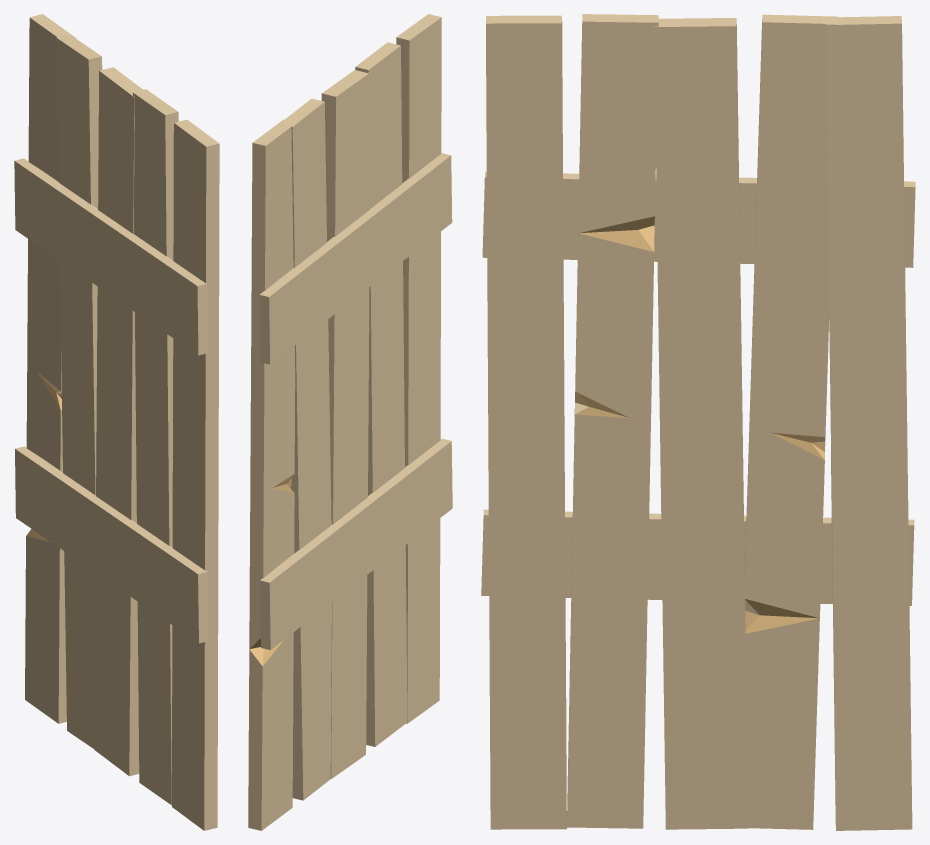
File: pont2.FBX
The picture shows the model from 3 angles, left to right: view 1: azimuth 30°, elevation 25°; view 2: azimuth 150°, elevation 25°; view 3: azimuth 270°, elevation 25°; orthographic projection. The views are drawn at different scales.
Visible parts, largest first — view 1: planche04, planche005, planche02, planche03, planche007, planche006, planche008; view 2: planche007, planche005, planche04, planche03, planche02, planche006, planche008; view 3: planche005, planche04, planche007, planche02, planche03, planche006, planche008.
Part boxes in pixels (<box>): planche04: <box>172,119,219,830</box>; planche005: <box>94,67,142,776</box>; planche02: <box>132,89,178,805</box>; planche03: <box>56,34,102,748</box>; planche007: <box>25,14,76,723</box>; planche006: <box>14,158,208,355</box>; planche008: <box>15,446,208,643</box>; planche007: <box>248,119,295,830</box>; planche005: <box>321,70,370,778</box>; planche04: <box>396,14,441,723</box>; planche03: <box>279,98,331,800</box>; planche02: <box>355,42,407,746</box>; planche006: <box>259,153,452,364</box>; planche008: <box>260,438,452,649</box>; planche005: <box>654,18,748,829</box>; planche04: <box>486,15,566,829</box>; planche007: <box>825,16,912,830</box>; planche02: <box>567,14,658,828</box>; planche03: <box>744,14,838,829</box>; planche006: <box>482,171,915,267</box>; planche008: <box>481,509,914,605</box>.
Size of the model in its own units: 2.58 by 71.21 by 34.64.
